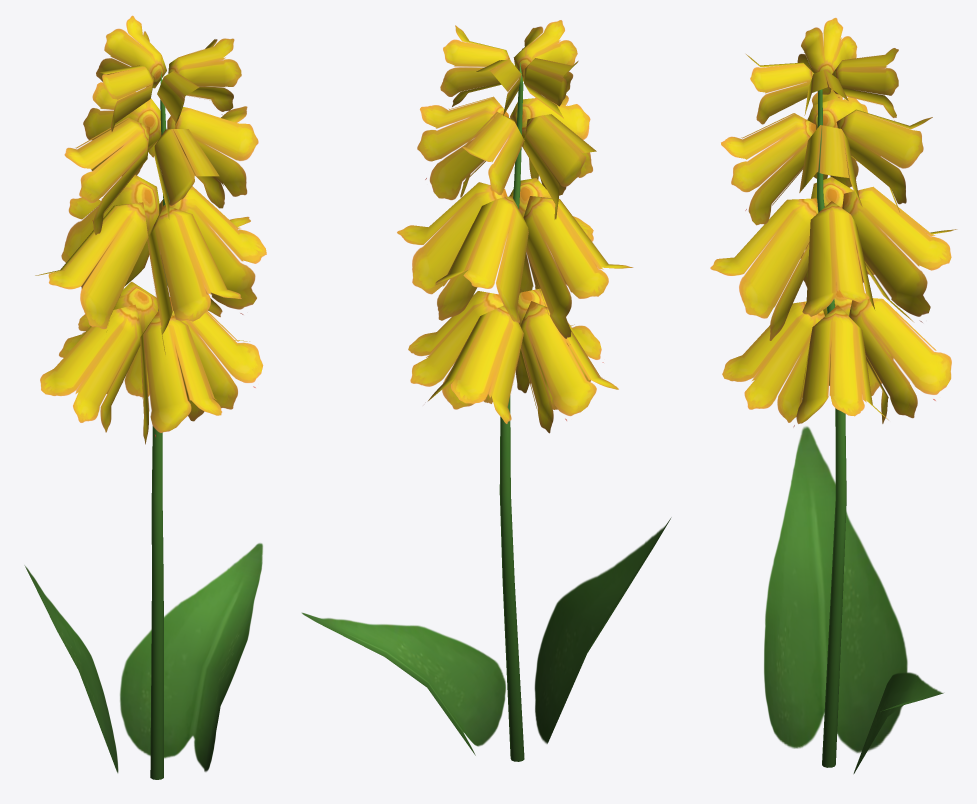
The model's file is flower-single-gvfho0roi3-transformed.glb.
3 views of the same model, side by side, from view 1: azimuth 30°, elevation 25°; view 2: azimuth 150°, elevation 25°; view 3: azimuth 270°, elevation 25° (orthographic).
Parts seen in each view (by area): view 1: Flower_4_Single; view 2: Flower_4_Single; view 3: Flower_4_Single.
Boxes of the visible parts, x1,y1,x2,y2 form: Flower_4_Single: (24,15,266,779); Flower_4_Single: (301,20,671,761); Flower_4_Single: (710,17,957,773).
Size of the model in its own units: 1.07 by 2.42 by 0.7729.
2 materials, 2 textured.
